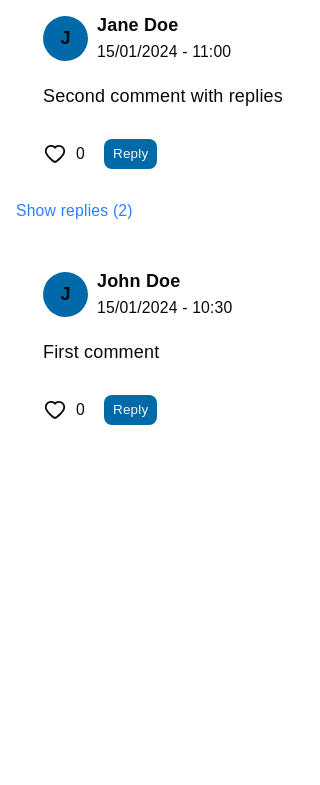
Test: CommentList › multiple comments with replies › should show/hide replies independently for each comment
Show replies for comment-2
Step 1. Click the button "Show replies (2)" → [74, 211], box [16,200,133,222]
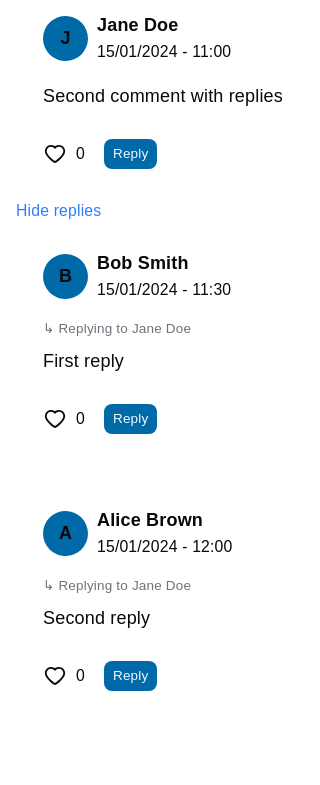
Result: the text "First reply" is shown at [43,351,124,371]
Result: the text "Second reply" is shown at [43,608,150,628]
